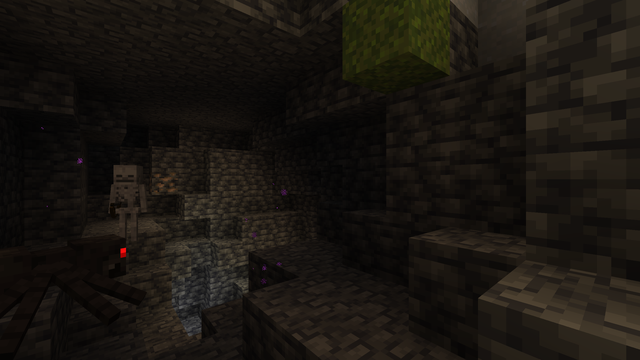araignees: (5, 225, 125, 340)
squelettes: (114, 165, 143, 242)
